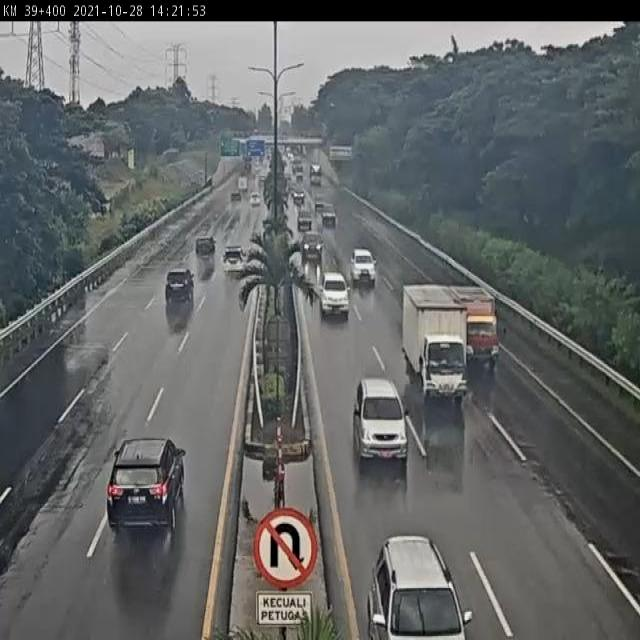Car: (366, 533, 472, 637), (106, 436, 186, 536), (349, 368, 415, 473), (318, 271, 351, 318), (165, 267, 194, 303), (349, 248, 376, 286), (222, 244, 246, 275), (302, 231, 324, 261), (195, 235, 216, 256), (320, 205, 337, 229), (297, 212, 313, 233)
Truck: (400, 282, 469, 403), (464, 283, 509, 367)
